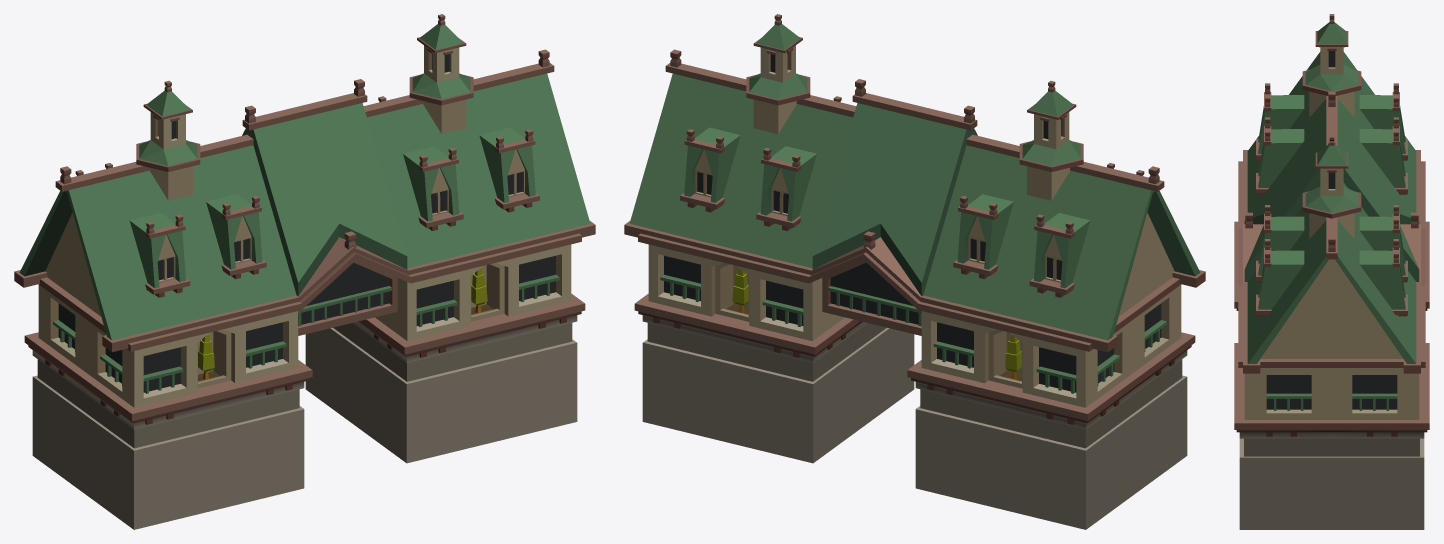
Rendered from SF_Bld_Elven_House_06.fbx.
The picture shows the model from 3 angles, left to right: view 1: azimuth 30°, elevation 25°; view 2: azimuth 150°, elevation 25°; view 3: azimuth 270°, elevation 25°; orthographic projection. The views are drawn at different scales.
Visible parts, largest first — view 1: SF_Bld_Elven_House_06; view 2: SF_Bld_Elven_House_06; view 3: SF_Bld_Elven_House_06.
Part boxes in pixels (bbox=[...]): SF_Bld_Elven_House_06: bbox=[14, 14, 595, 529]; SF_Bld_Elven_House_06: bbox=[624, 14, 1205, 529]; SF_Bld_Elven_House_06: bbox=[1234, 14, 1429, 529].
Size of the model in its own units: 35.93 by 27.21 by 13.56.
